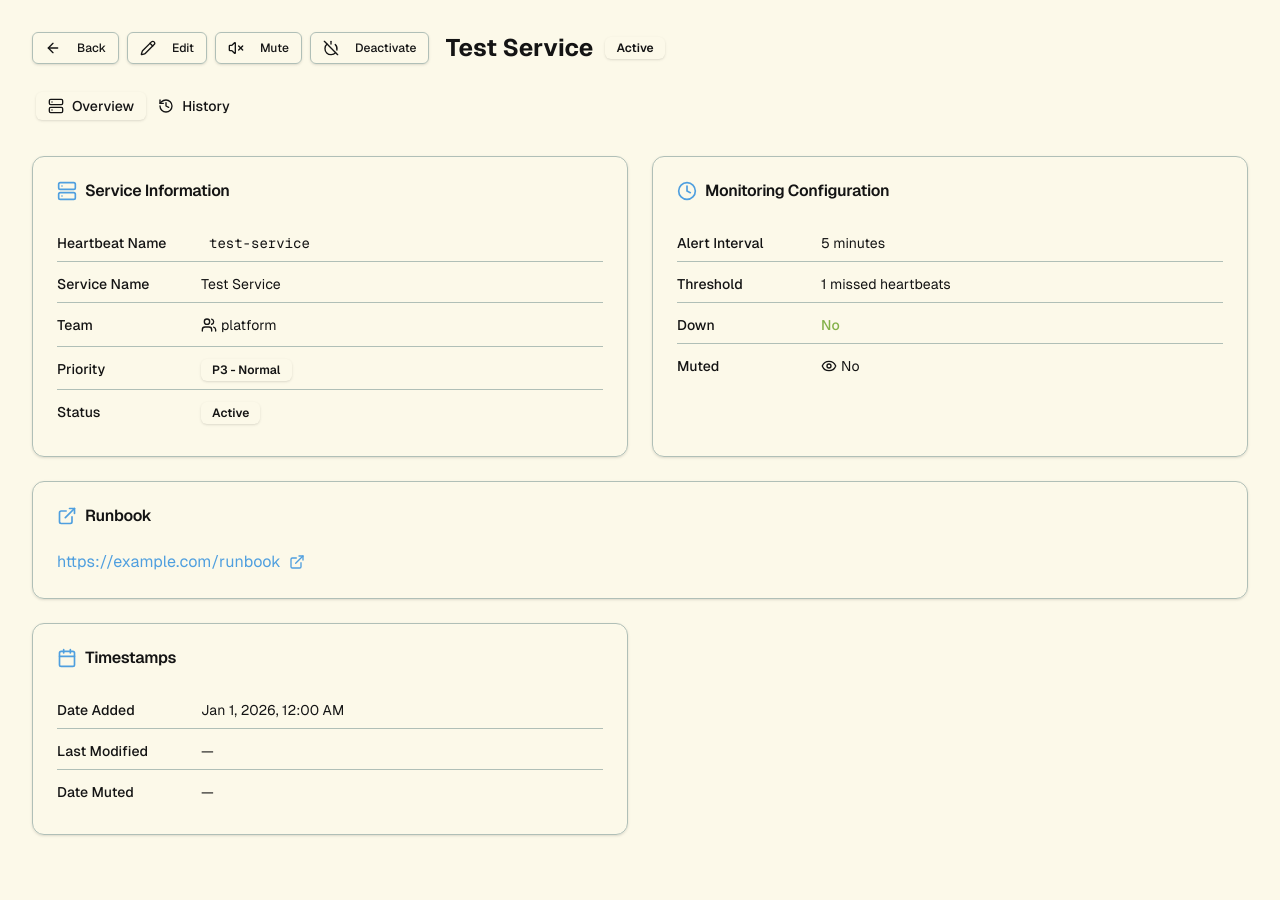
ServiceDetail - Edit Button › modal interaction › refreshes page data after successful edit
This screenshot has width=1280, height=900.
expect the heading "Test Service" is shown: met, box [446,32,594,64]
# Open modal
Click the button "Edit": (167, 48) [127,32,207,64]
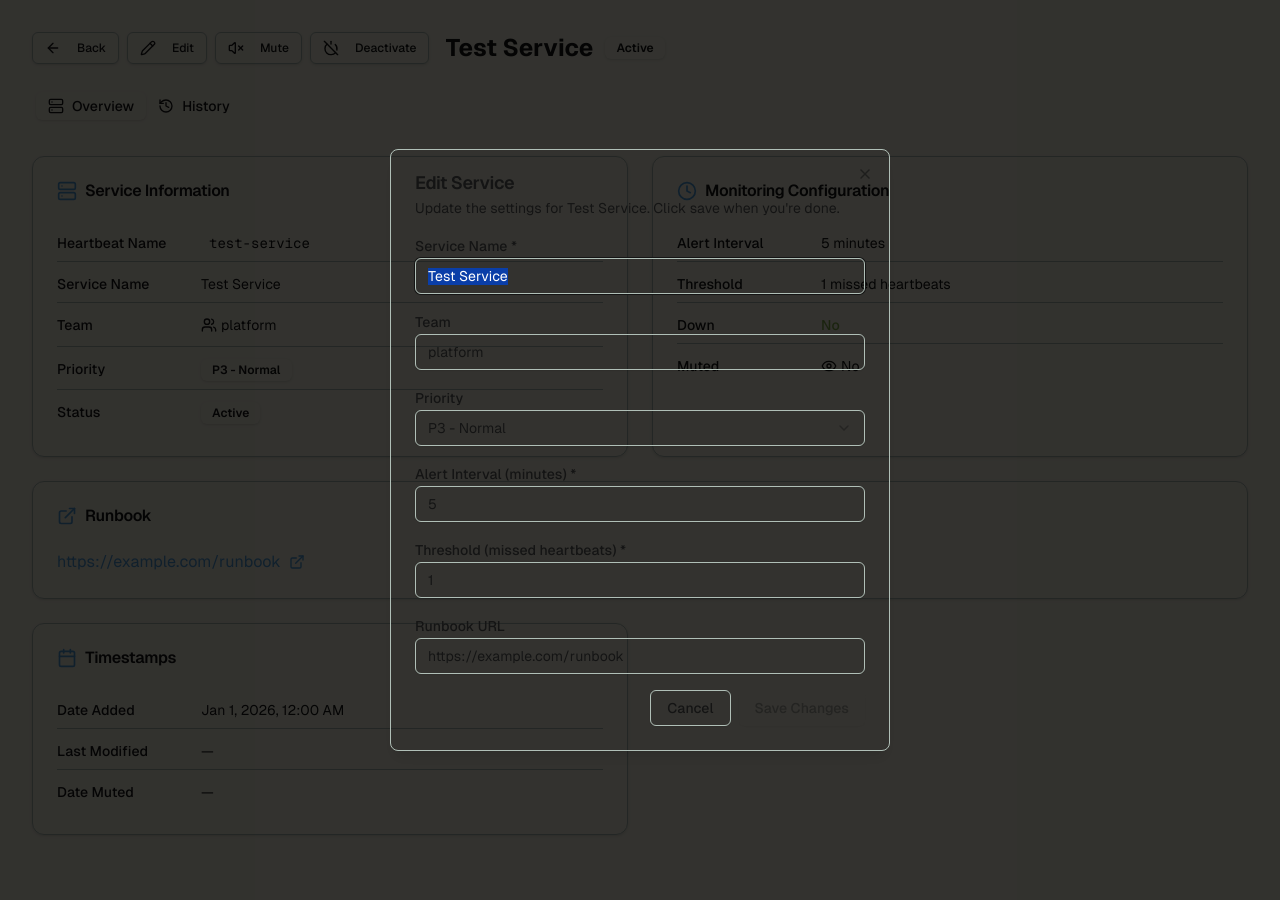
expect the dialog is shown: met, box [390,149,890,751]
# Make a change
Clear the field labelled "Service Name *": (640, 276) [415,258,865,294]
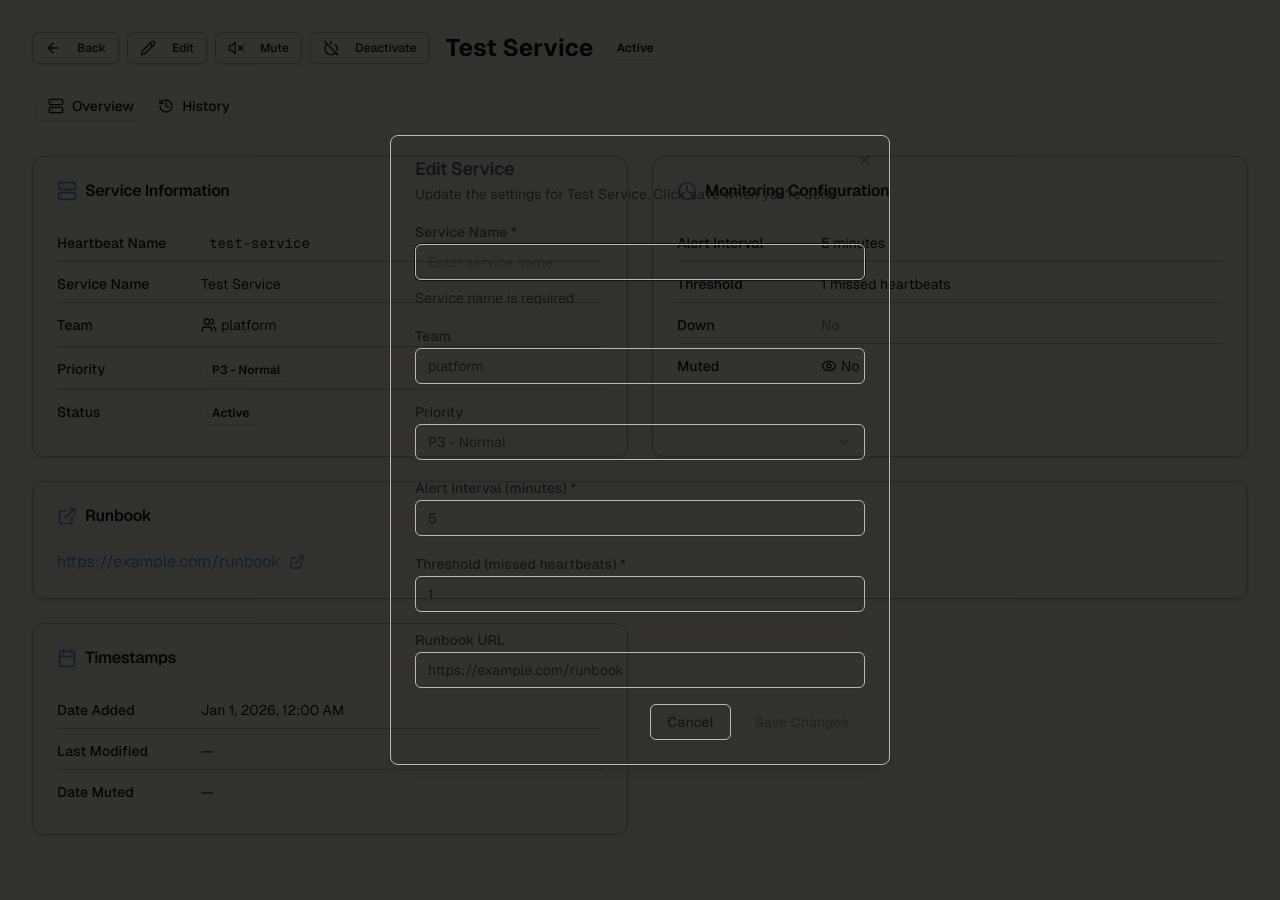
In the field labelled "Service Name *": (640, 262) [415,244,865,280], type "Updated Service Name"
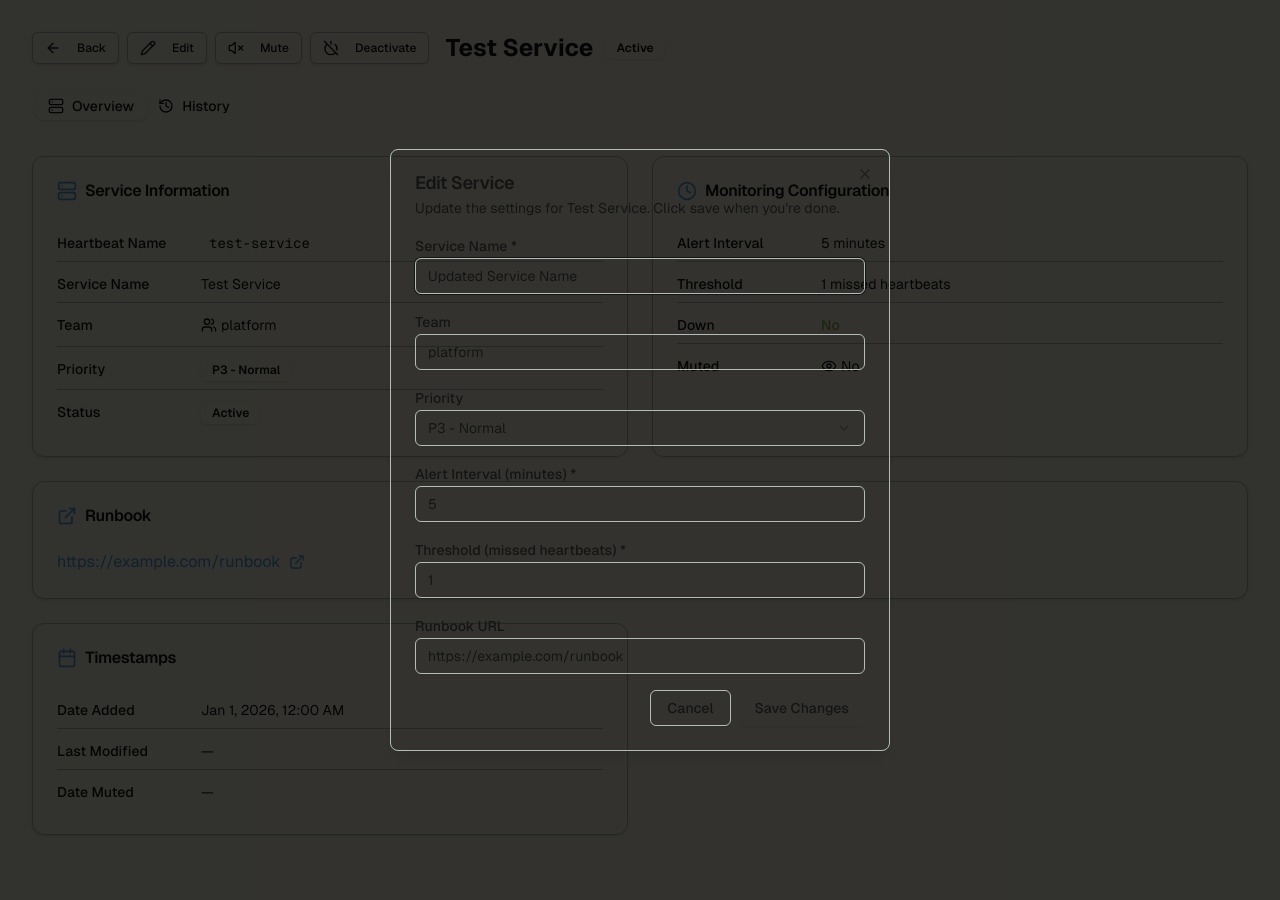
Click the button "Save Changes": (802, 708) [739,690,865,726]
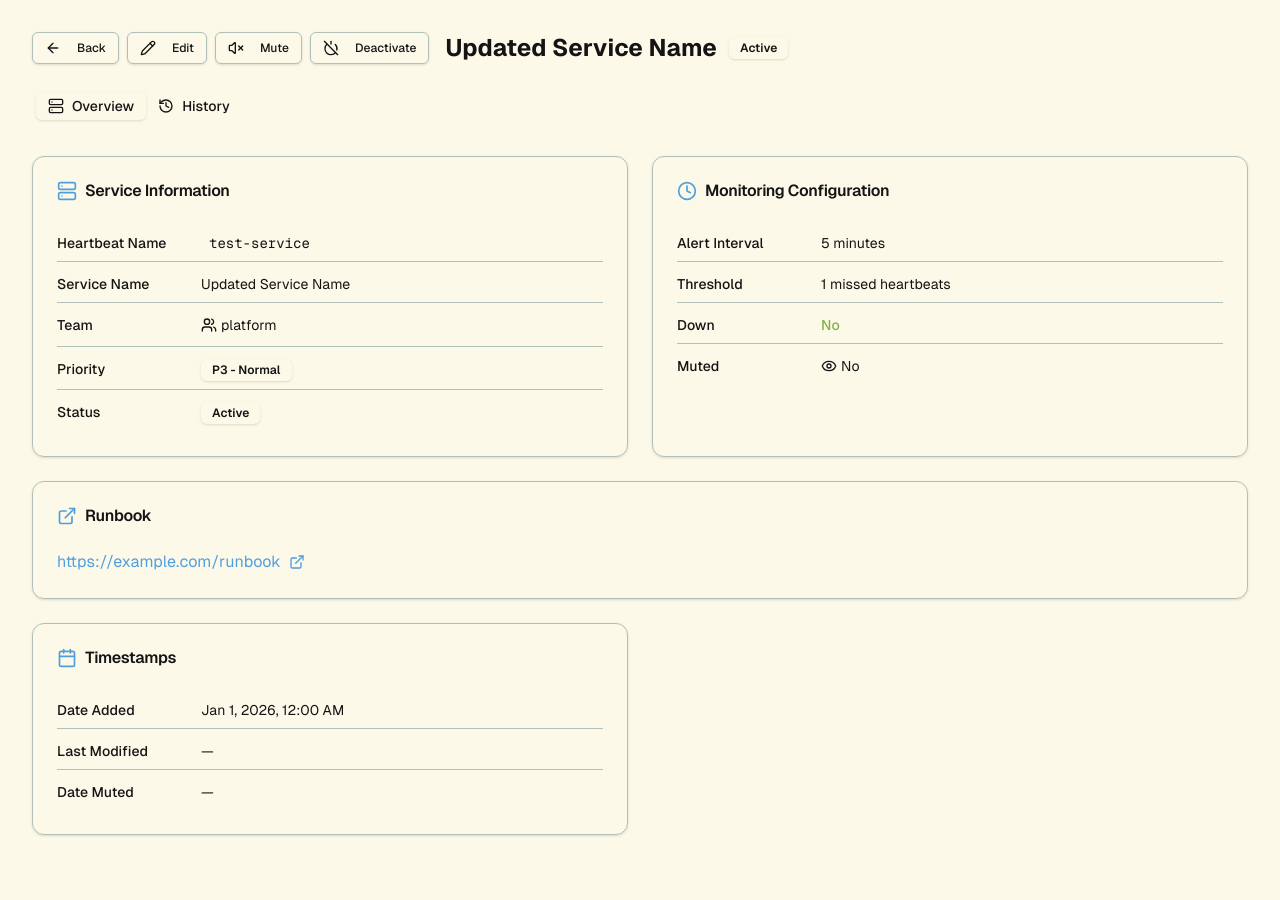
expect the dialog is gone: met
